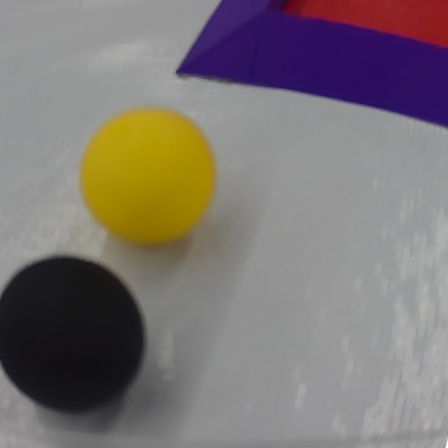black: (1, 252, 149, 425)
red_aim: (169, 2, 448, 137)
yellow: (81, 100, 219, 247)
